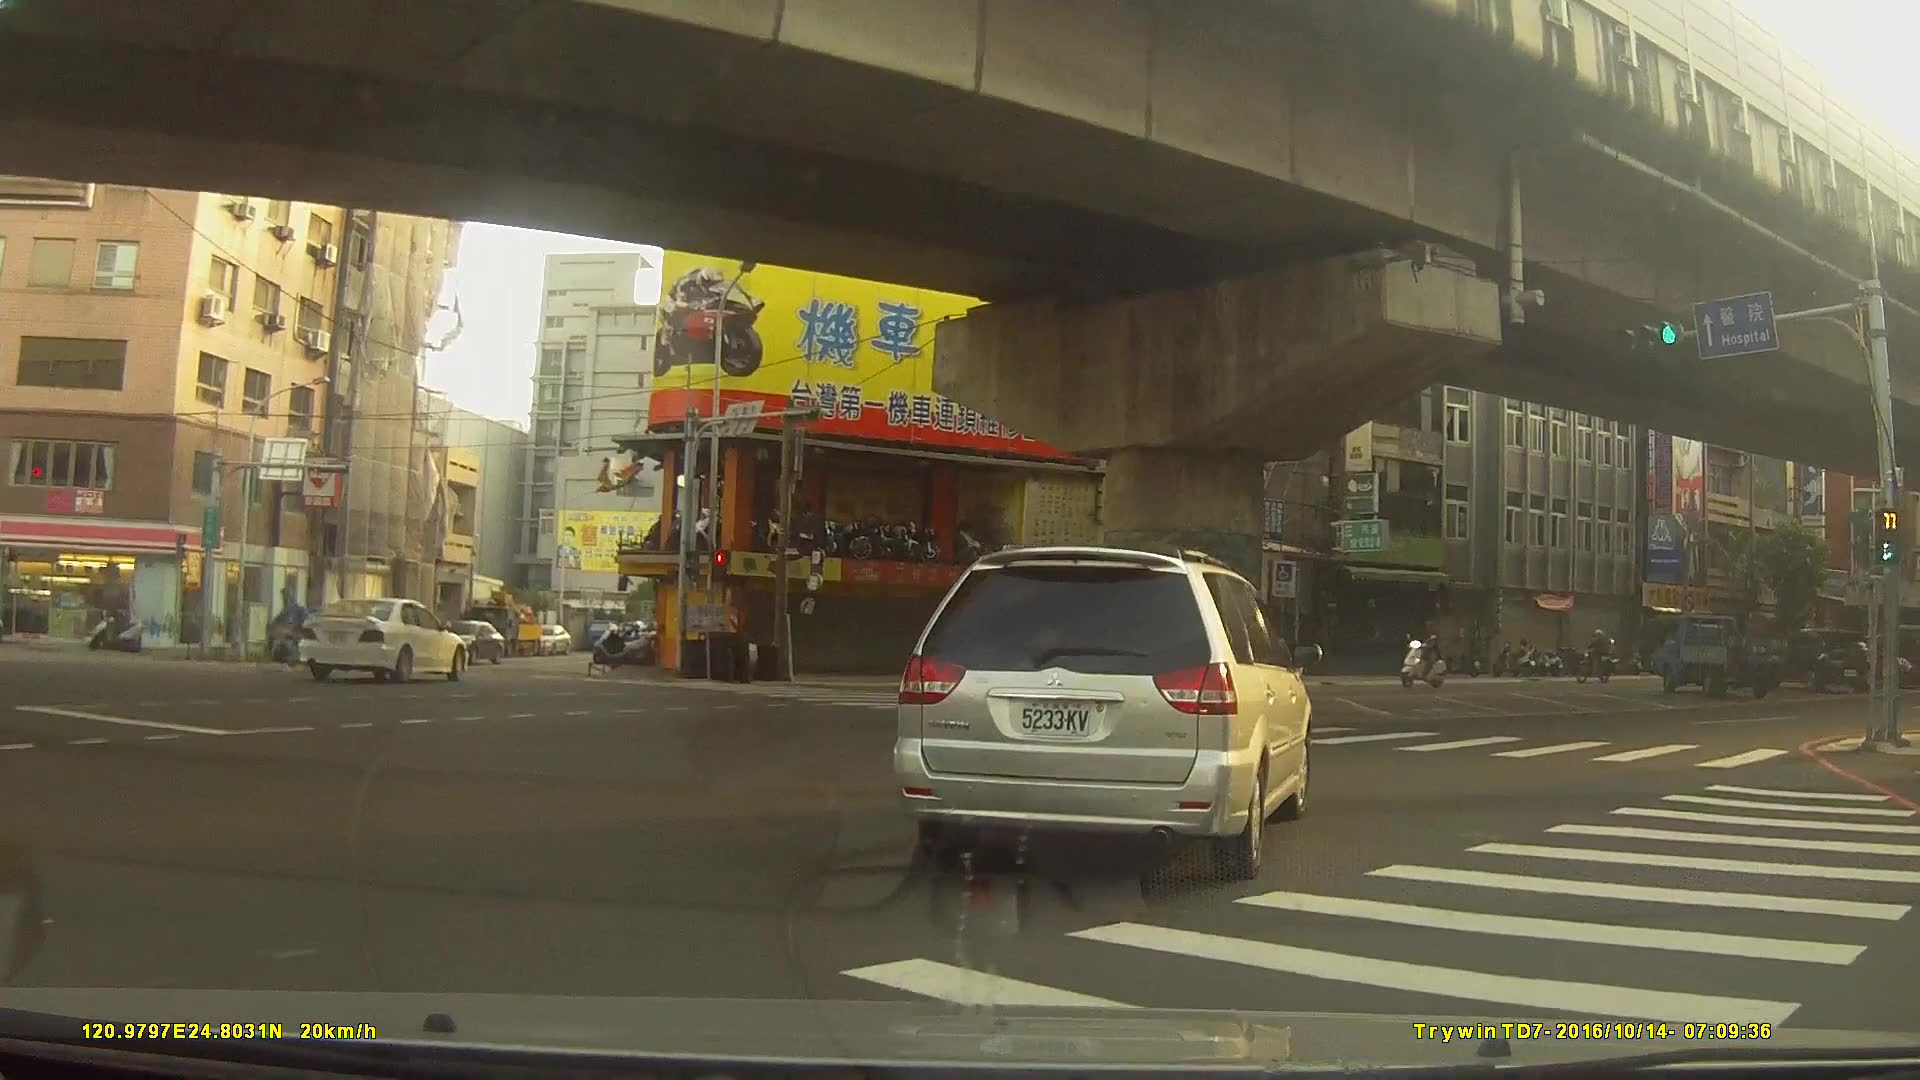rider: (253, 590, 331, 677), (1403, 625, 1452, 690), (1570, 629, 1622, 685)
vehicle: (891, 546, 1314, 875), (298, 597, 471, 684), (1652, 610, 1786, 696), (1767, 625, 1873, 693), (431, 619, 505, 665), (529, 626, 569, 657)
